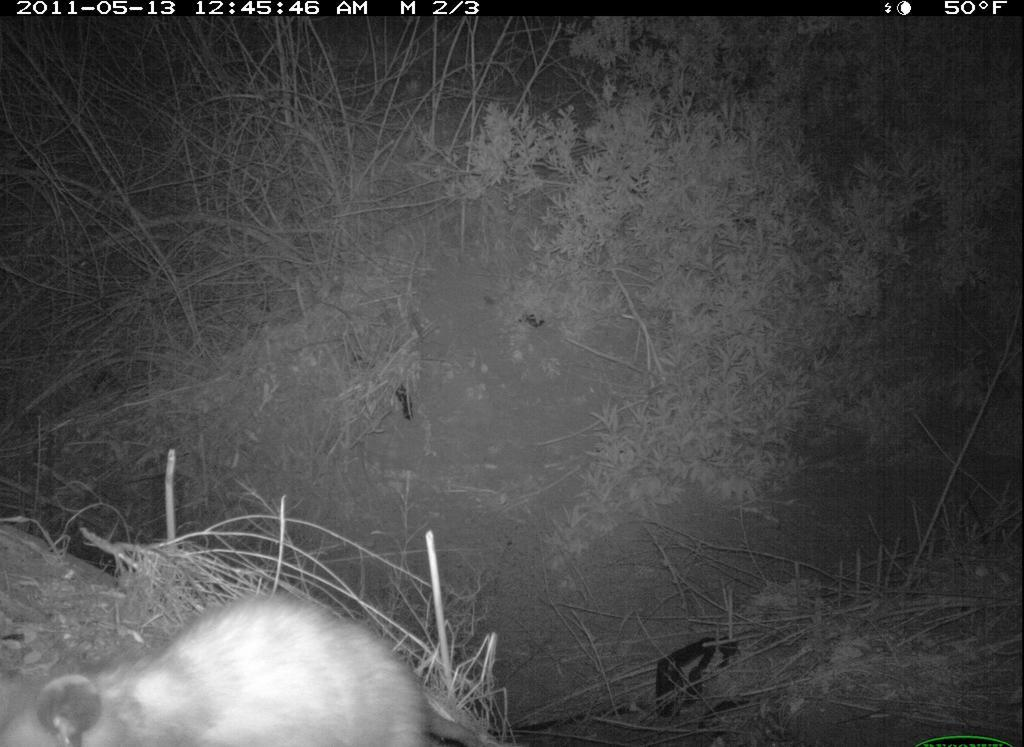opossum: (3, 577, 551, 747)
